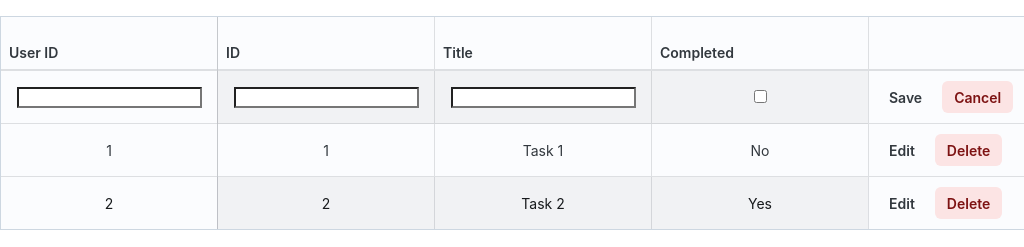
Tableau component › deletes a row from the table
The width and height of the screenshot is (1024, 247).
Click the button "Delete" in the row of "Task 1".
click(968, 150)  # box [935, 134, 1002, 166]
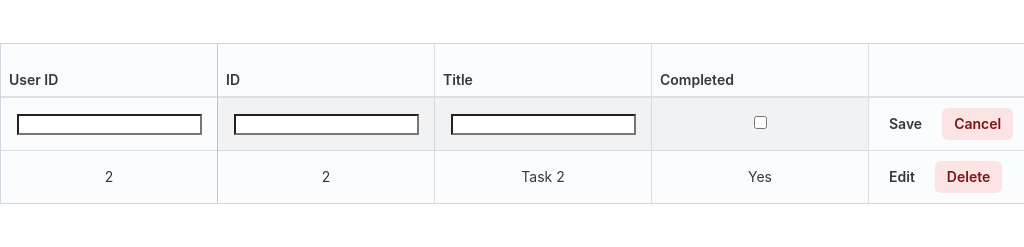
Result: the text "Task 1" is gone
